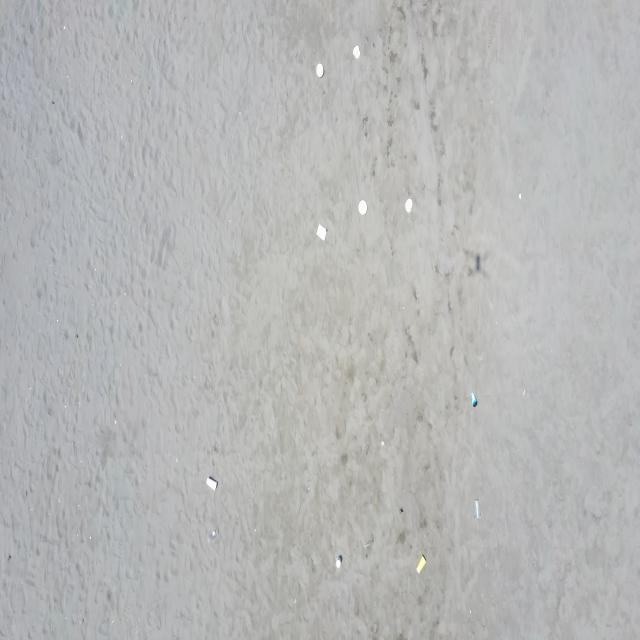take-away-containers: (316, 222, 328, 242), (358, 199, 368, 216), (316, 62, 324, 79), (405, 198, 413, 213), (353, 45, 361, 60)
takeaway-cup: (416, 555, 426, 574), (474, 498, 482, 520), (206, 478, 218, 492), (208, 529, 218, 543), (470, 392, 478, 407), (336, 557, 342, 569)
